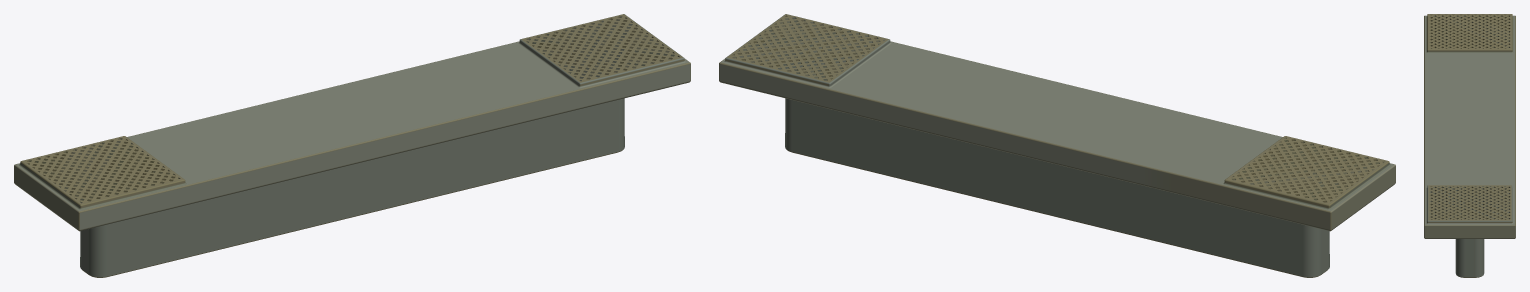
Rendered from Pull_128_20220715.glb.
The picture shows the model from 3 angles, left to right: view 1: azimuth 30°, elevation 25°; view 2: azimuth 150°, elevation 25°; view 3: azimuth 270°, elevation 25°; orthographic projection. The views are drawn at different scales.
Visible parts, largest first — view 1: Shell; view 2: Shell; view 3: Shell.
Part boxes in pixels (box(x1,y1,x2,y2)): Shell: box(14, 14, 690, 277); Shell: box(719, 14, 1395, 277); Shell: box(1424, 14, 1515, 277).
Bounding box in the file's own units: 157 × 24.15 × 29.
1 material, 1 textured.
